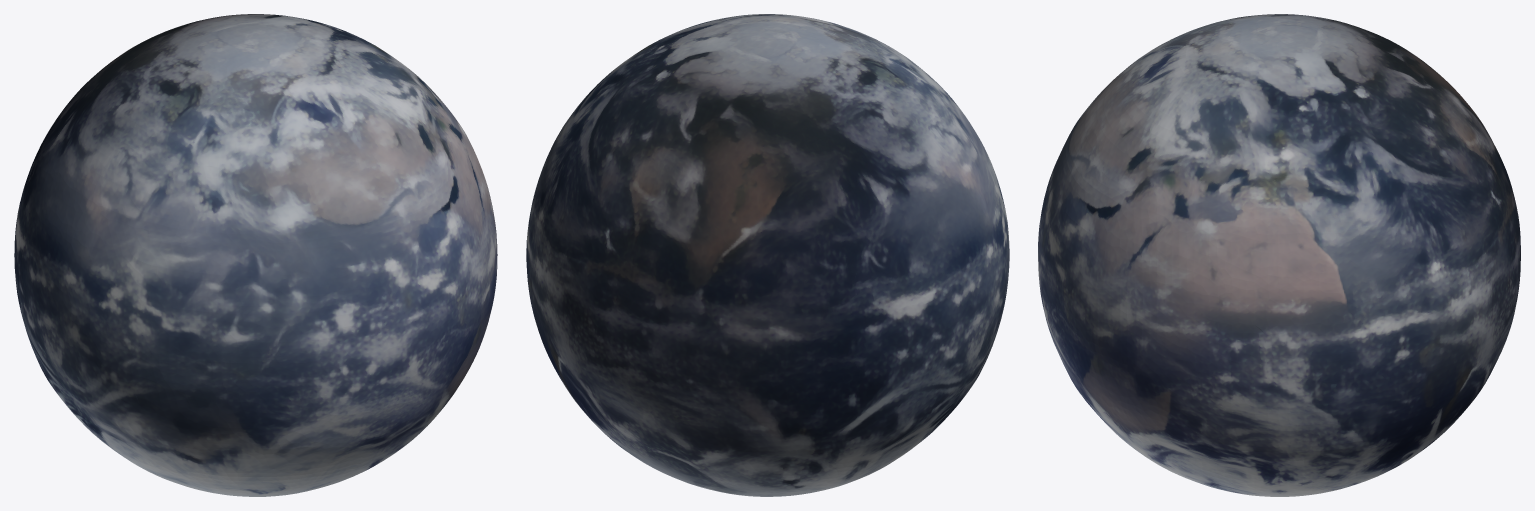
File: 3d-earth.glb
3 views of the same model, side by side, from view 1: azimuth 30°, elevation 25°; view 2: azimuth 150°, elevation 25°; view 3: azimuth 270°, elevation 25° (orthographic).
Visible parts, largest first — view 1: world; view 2: world; view 3: world.
Boxes of the visible parts, left/top/right/bottom form: world: left=14, top=14, right=497, bottom=496; world: left=526, top=14, right=1009, bottom=496; world: left=1038, top=14, right=1520, bottom=496.
Bounding box in the file's own units: 0.9993 × 0.9993 × 0.9995.
Materials: 1 (1 with a texture image).
